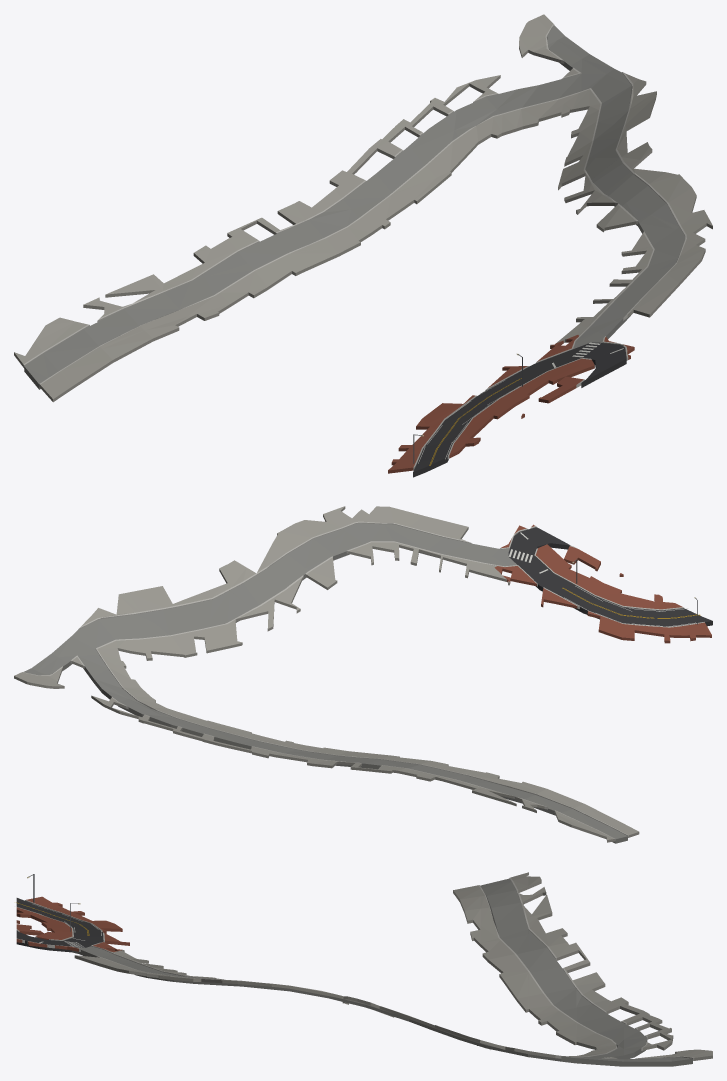
The picture shows the model from 3 angles, top to bottom: view 1: azimuth 30°, elevation 25°; view 2: azimuth 150°, elevation 25°; view 3: azimuth 270°, elevation 25°; orthographic projection. The views are drawn at different scales.
Size of the model in its own units: 147 by 37.53 by 146.
